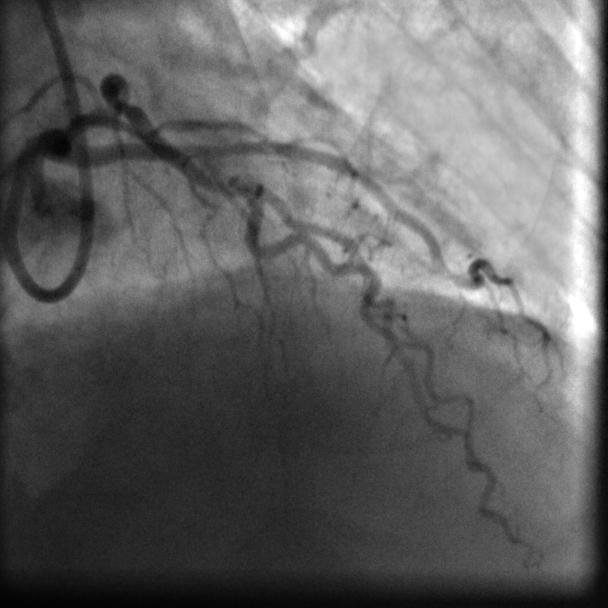Stenosis: (107, 83, 135, 126)
